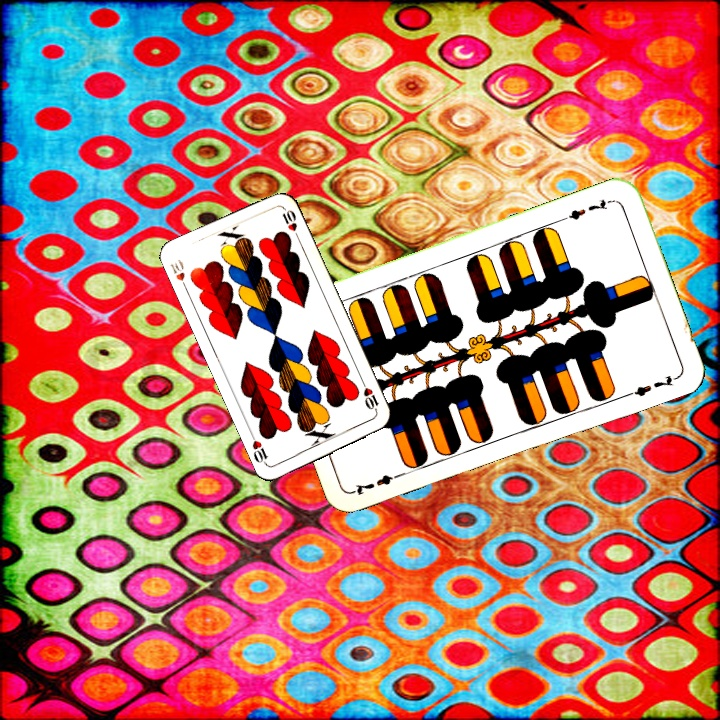E7: (350, 468, 407, 498), (559, 194, 616, 223)
H10: (166, 255, 190, 294), (358, 377, 381, 415)
